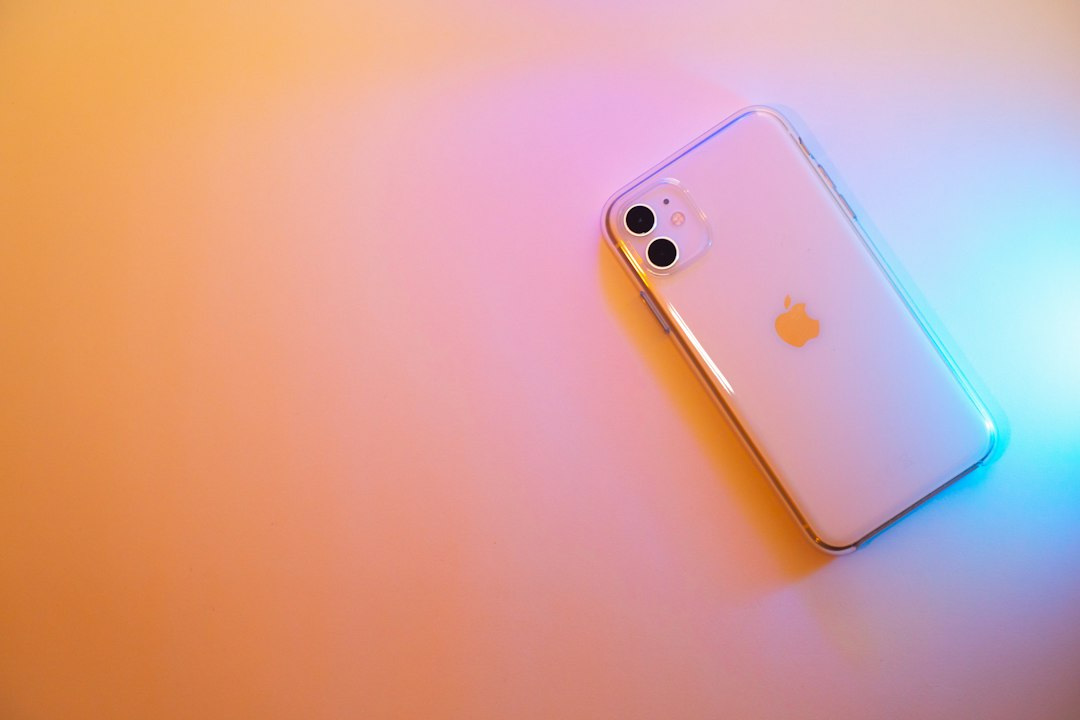phone: (605, 105, 995, 555)
